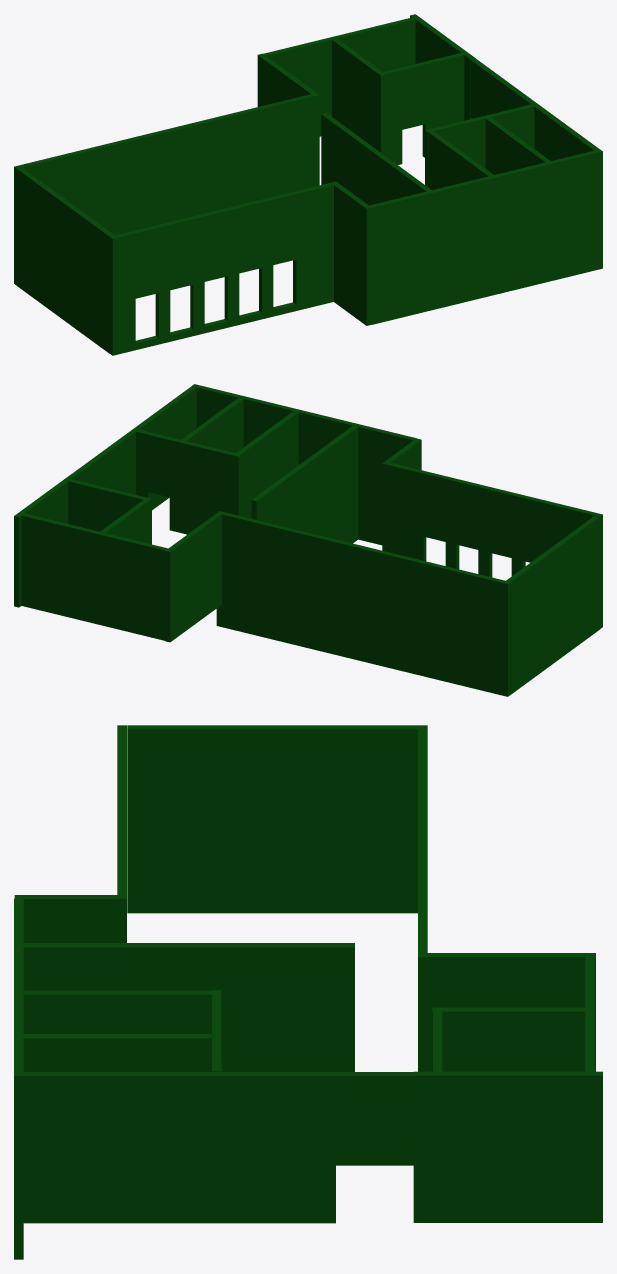
File: Wall.fbx
3 views of the same model, one above another, from view 1: azimuth 30°, elevation 25°; view 2: azimuth 150°, elevation 25°; view 3: azimuth 270°, elevation 25° (orthographic). The views are drawn at different scales.
Parts seen in each view (by area): view 1: BaseWall; view 2: BaseWall; view 3: BaseWall.
Part boxes in pixels (bbox=[...]): BaseWall: bbox=[14, 14, 602, 355]; BaseWall: bbox=[14, 384, 602, 696]; BaseWall: bbox=[14, 725, 602, 1259].
Bounding box in the file's own units: 39.78 × 9.75 × 28.24.
